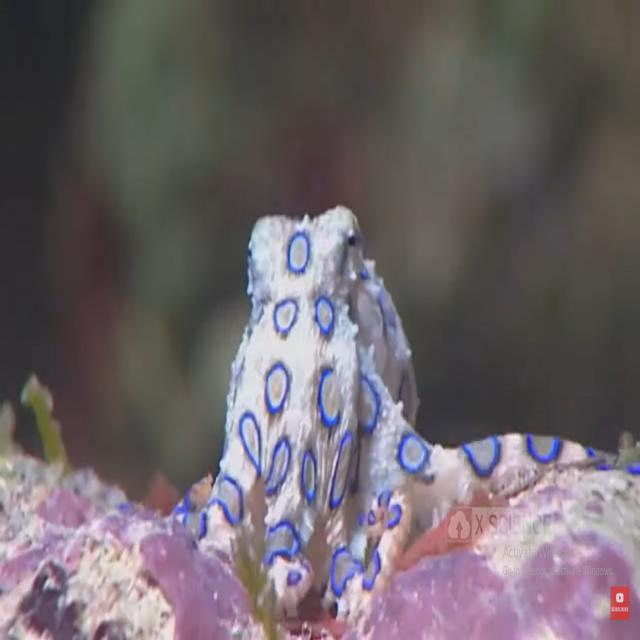blue_ringed_octopus: (170, 202, 640, 614)
